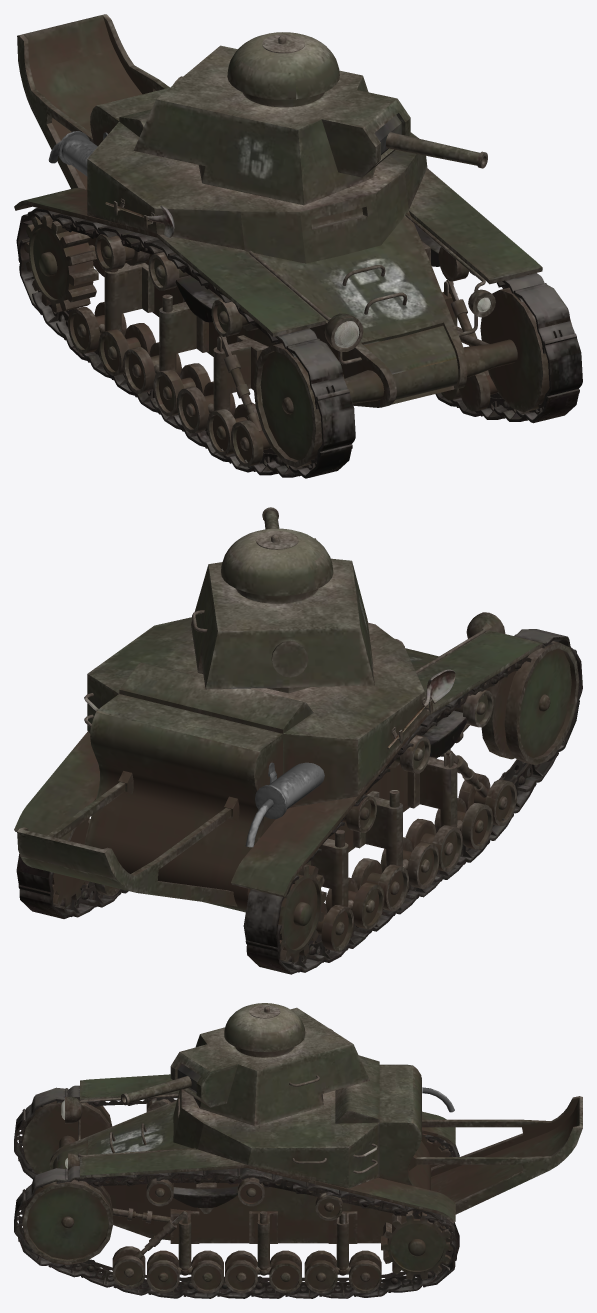
The model's file is ms_1_light_tank.glb.
3 views of the same model, one above another, from view 1: azimuth 30°, elevation 25°; view 2: azimuth 150°, elevation 25°; view 3: azimuth 270°, elevation 25° (orthographic). The views are drawn at different scales.
Visible parts, largest first — view 1: Plane.002__0, WholeTank_BG02.008_track.001_0, WholeTank_BG02.007_Material__134__TankBody_.002_0, WholeTank_BG02.005_Material__134__TankBody__0; view 2: Plane.002__0, WholeTank_BG02.008_track.001_0, WholeTank_BG02.007_Material__134__TankBody_.002_0, WholeTank_BG02.005_Material__134__TankBody__0; view 3: Plane.002__0, WholeTank_BG02.008_track.001_0.
Part boxes in pixels (x1,y1,x2,y2): Plane.002__0: (14,14,572,467); WholeTank_BG02.008_track.001_0: (16,208,582,478); WholeTank_BG02.007_Material__134__TankBody_.002_0: (48,131,107,176); WholeTank_BG02.005_Material__134__TankBody__0: (105,198,174,237); Plane.002__0: (14,507,579,962); WholeTank_BG02.008_track.001_0: (16,629,582,974); WholeTank_BG02.007_Material__134__TankBody_.002_0: (245,762,324,847); WholeTank_BG02.005_Material__134__TankBody__0: (387,669,455,749); Plane.002__0: (22,1003,582,1293); WholeTank_BG02.008_track.001_0: (14,1085,459,1298).
Size of the model in its own units: 1.41 by 1.59 by 3.32.
4 materials, 4 textured.
